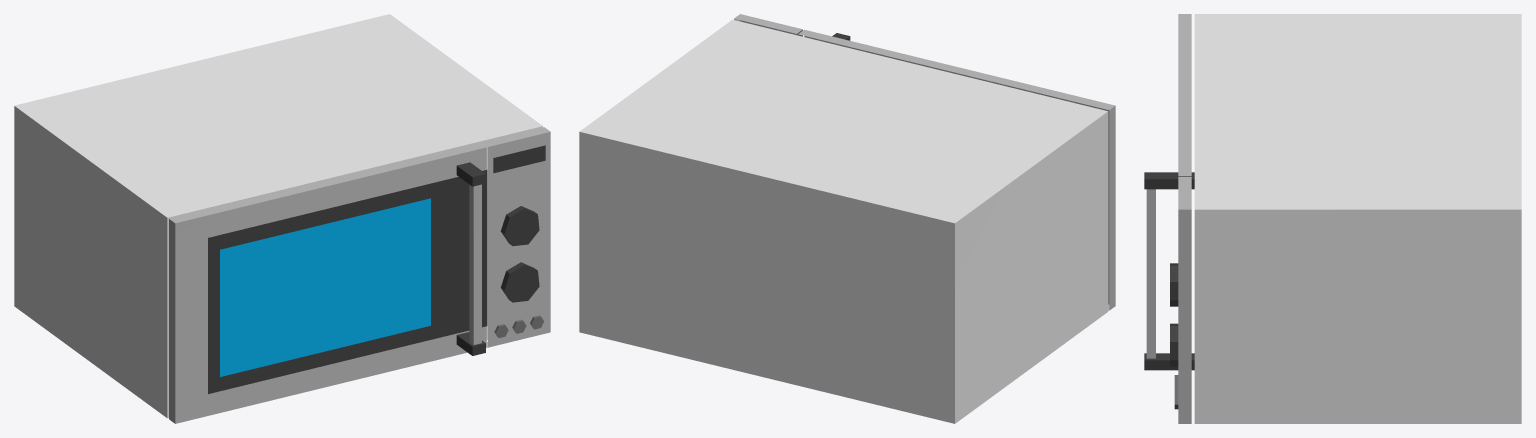
The model's file is MIcro.obj.
3 views of the same model, side by side, from view 1: azimuth 30°, elevation 25°; view 2: azimuth 150°, elevation 25°; view 3: azimuth 270°, elevation 25° (orthographic). The views are drawn at different scales.
Parts seen in each view (by area): view 1: microwave_oven_001; view 2: microwave_oven_001; view 3: microwave_oven_001.
Boxes of the visible parts, x1,y1,x2,y2 form: microwave_oven_001: (14, 14, 550, 423); microwave_oven_001: (579, 14, 1115, 423); microwave_oven_001: (1144, 14, 1521, 423).
Size of the model in its own units: 4.3 by 2.19 by 3.5.
Materials: 1 (1 with a texture image).
